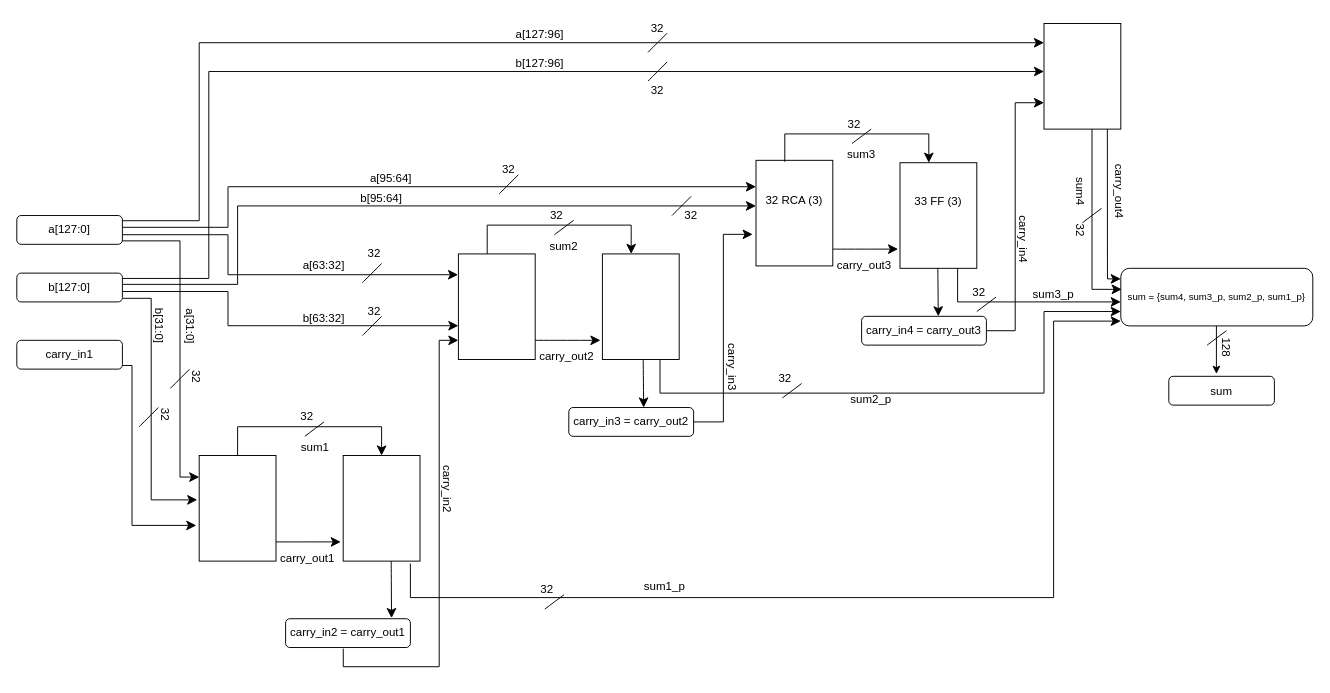
Image size: 1330x693. Some labels were removed from this diagram. The centre of each missing label's shape, as x and y in pixels:
"32 RCA (1)" goes at (x=237, y=508).
"32 RCA (2)" goes at (x=496, y=306).
"32 RCA (4)" goes at (x=1082, y=76).
"33 FF (1)" goes at (x=381, y=508).
"33 FF (2)" goes at (x=640, y=306).
